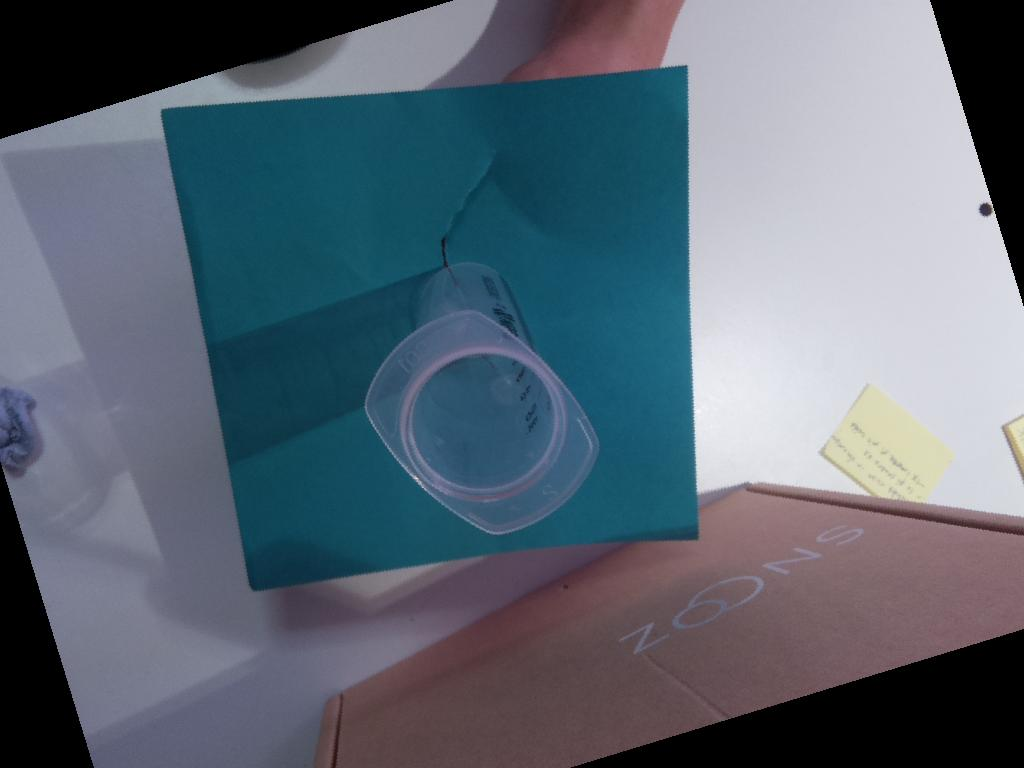clean: (364, 307, 604, 539)
